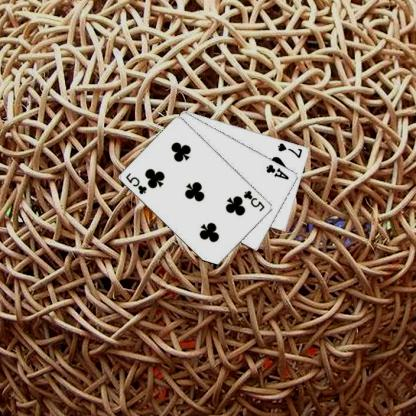5C: (241, 188, 266, 213), (124, 170, 148, 196)
7S: (275, 141, 304, 159)
AC: (264, 162, 290, 181)
